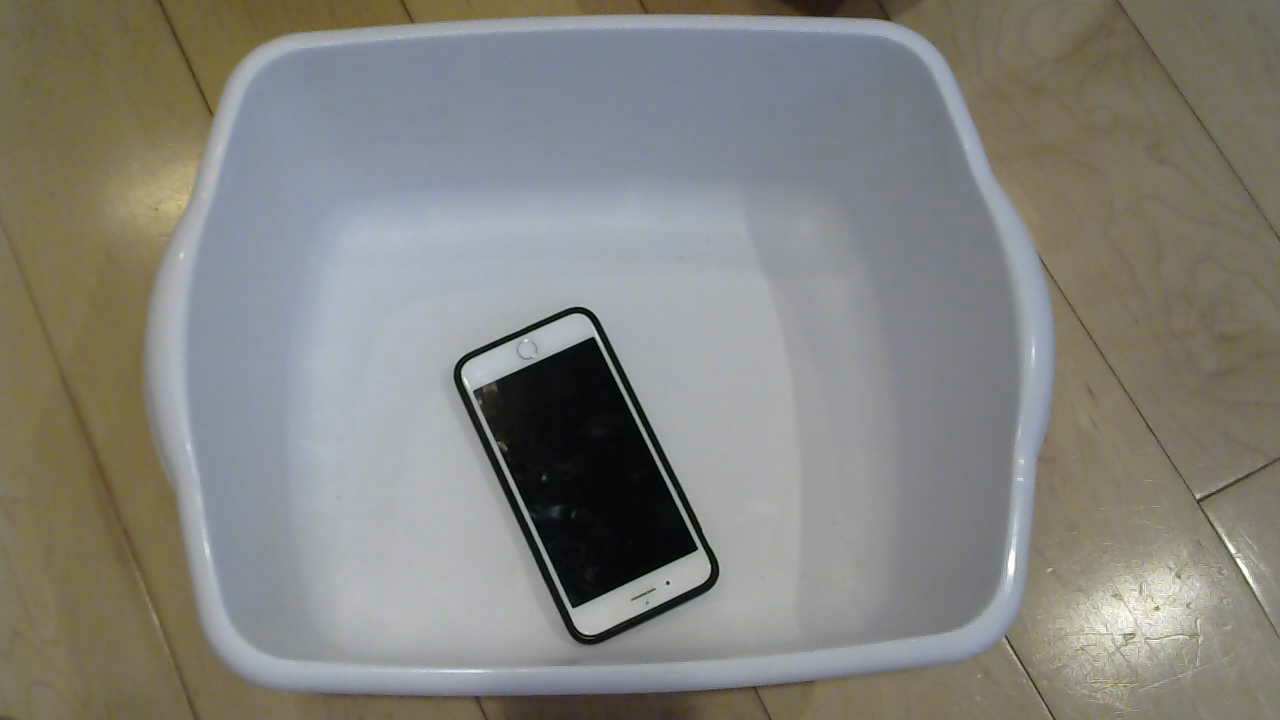phone: (443, 312, 722, 646)
